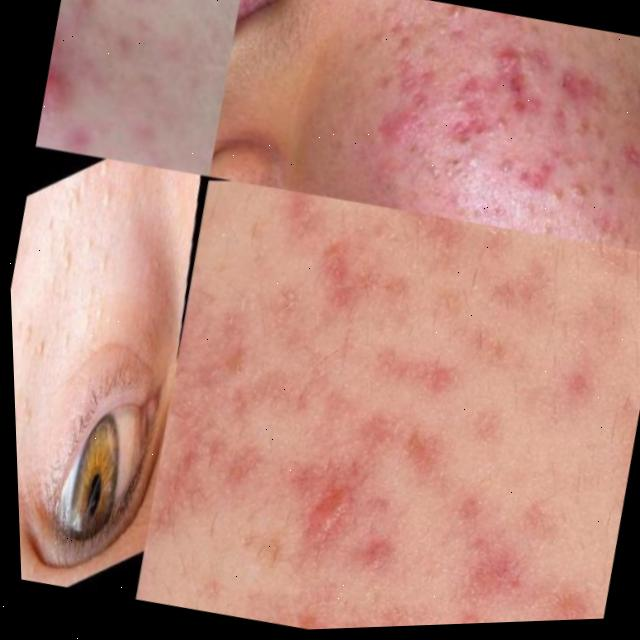Acne: (195, 221, 640, 633), (323, 2, 640, 218), (7, 182, 131, 443), (39, 0, 133, 116)
